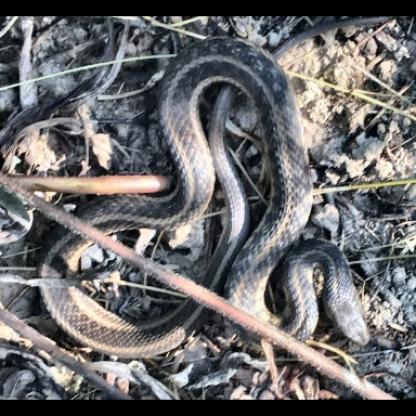Snake: (36, 33, 372, 360)
